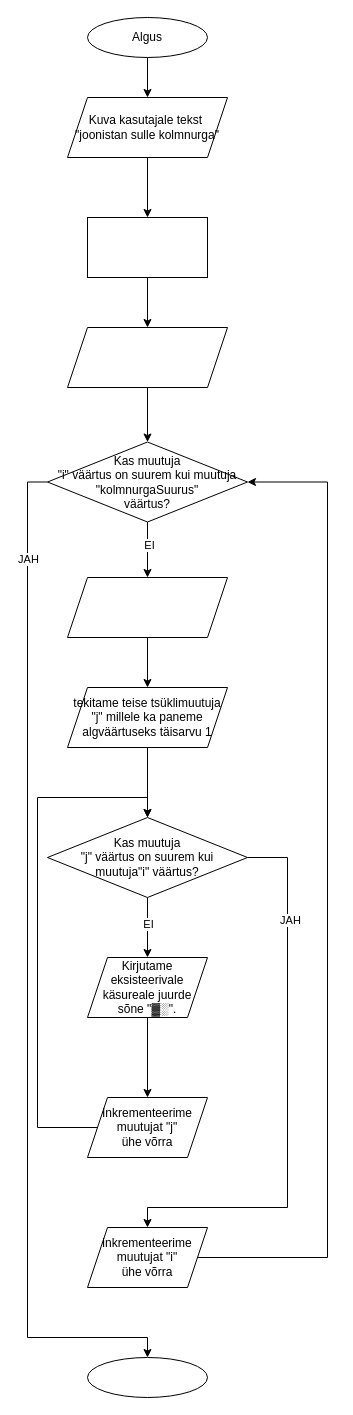
The diagram is 353 pixels wide and 1415 high, and some of its shapes have lost their labels. Here are the shapes that lost their labels. From the top down, the centre of each, then its label:
(x=147, y=247): ootame kuni kasutaja sisestab täisarvu muutujasse kolmnurgaSuurus
(x=147, y=357): Tekitame tsüklimuutuja "i" millele paneme algväärtuseks täisarvu 1
(x=147, y=607): Asetame käsureale uue, tühja rea kasutades "Console.WriteLine"
(x=147, y=1377): Lõpp
